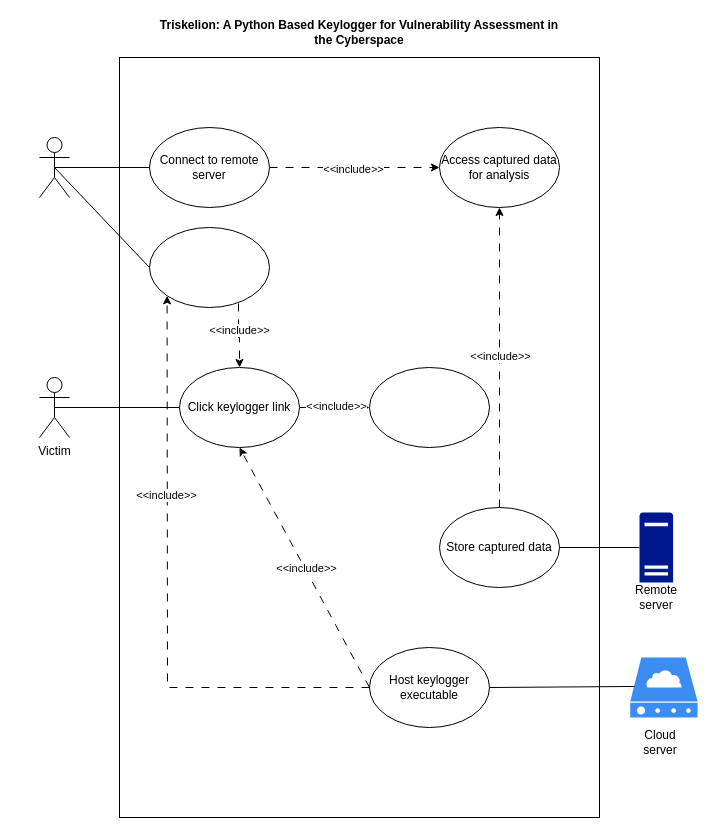
Some shapes in this 715 by 835 pixel diagram are drawn without their labels. The shapes that lost their labels are listed below. From the top down, each one's centre as x and y in pixels, then its label:
point 54,167: Ethical hacker
point 209,267: Share keylogger link
point 429,407: Execute keylogger
